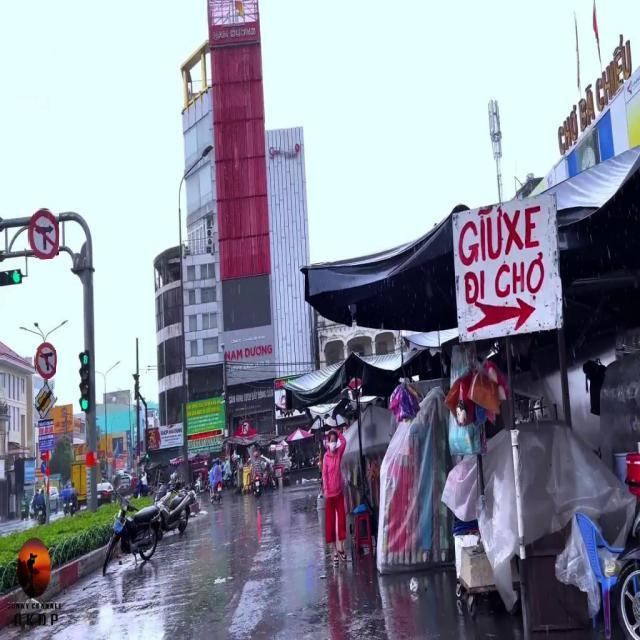123b-cam-re-phai: (240, 421, 250, 435)
137-cam-re-trai-va-re-phai: (27, 209, 60, 261), (34, 344, 58, 377)
